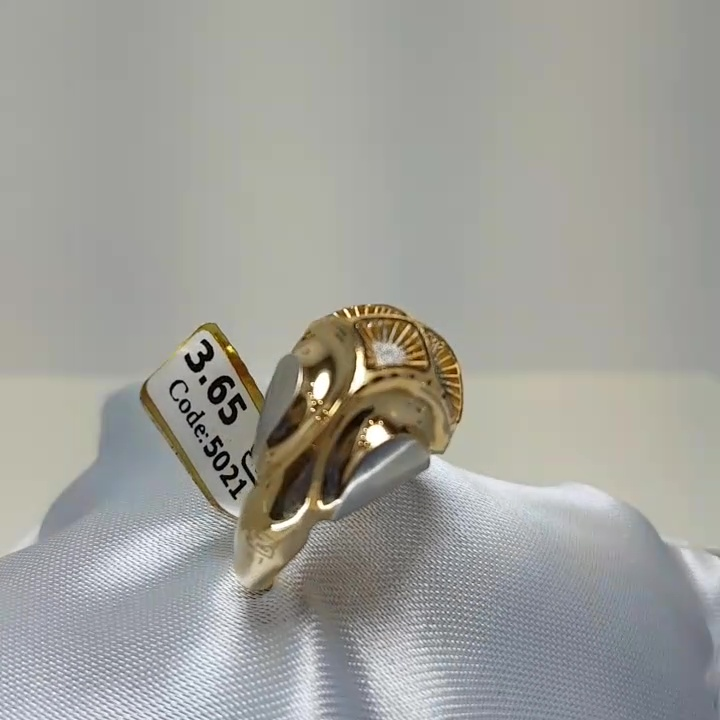Ring 2: (149, 262, 516, 592)
